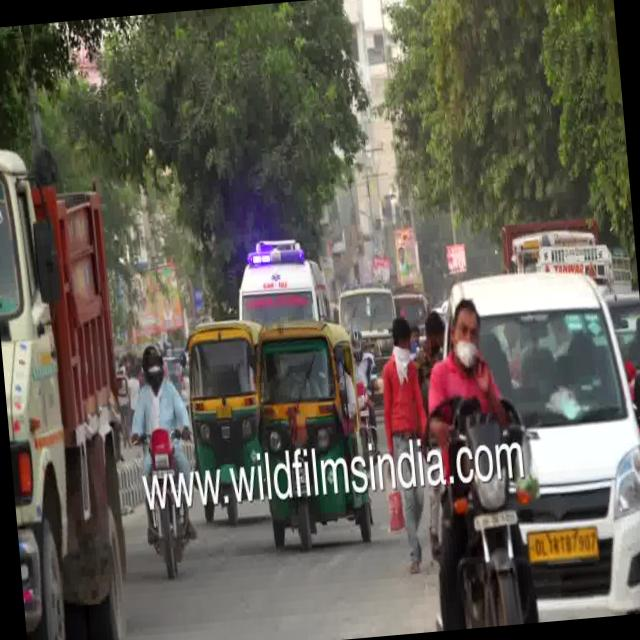ambulance: (223, 215, 330, 325)
